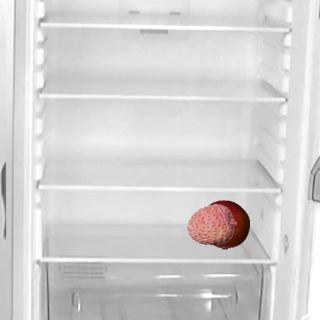Apple Braeburn: (199, 199, 249, 249)
Lychee: (186, 199, 236, 249)
